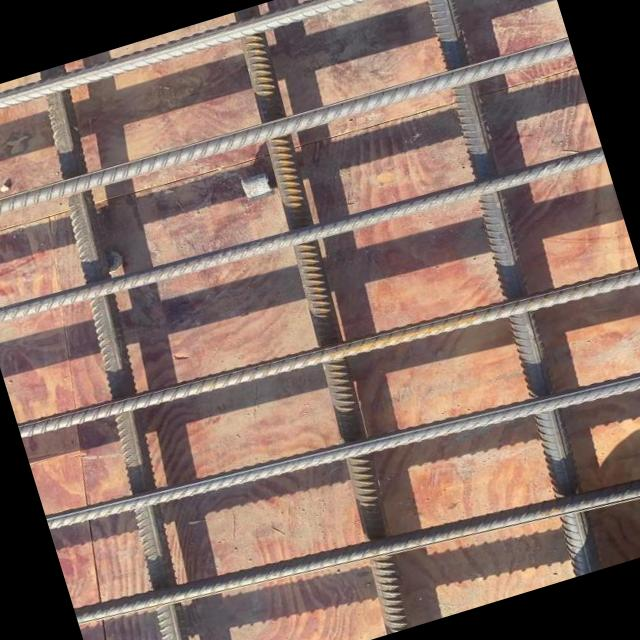ribbed bar: (197, 5, 443, 634), (17, 236, 640, 470), (0, 63, 250, 640), (45, 330, 640, 568), (385, 0, 628, 576), (0, 123, 605, 348), (0, 24, 572, 241), (74, 423, 640, 640), (0, 0, 540, 138)
